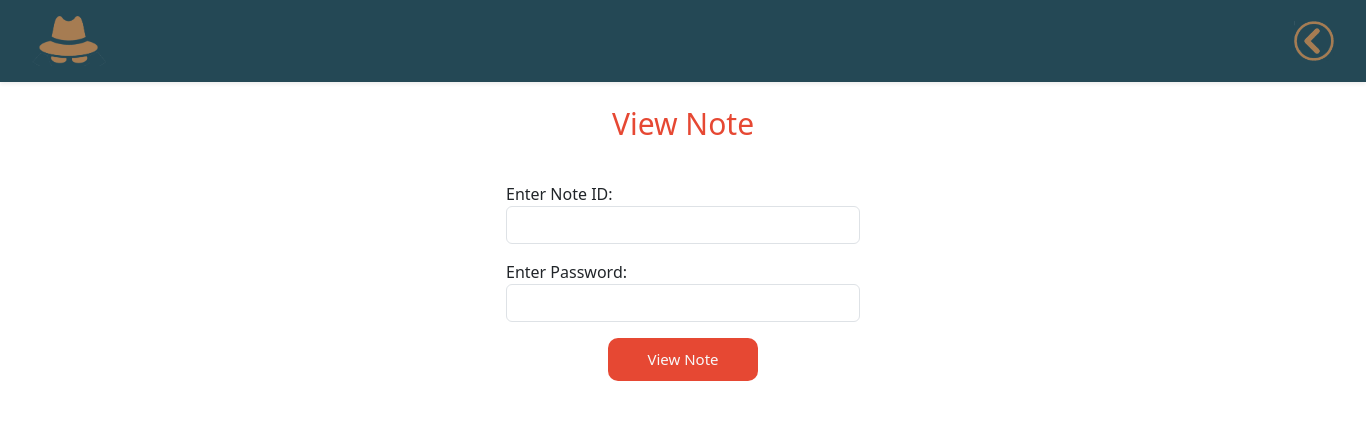
Test case: View Note Functionality › should display error if fields are empty
# Click on the view note button without filling the form
Click the button "View Note": coordinates (683, 360) [608,338,758,381]
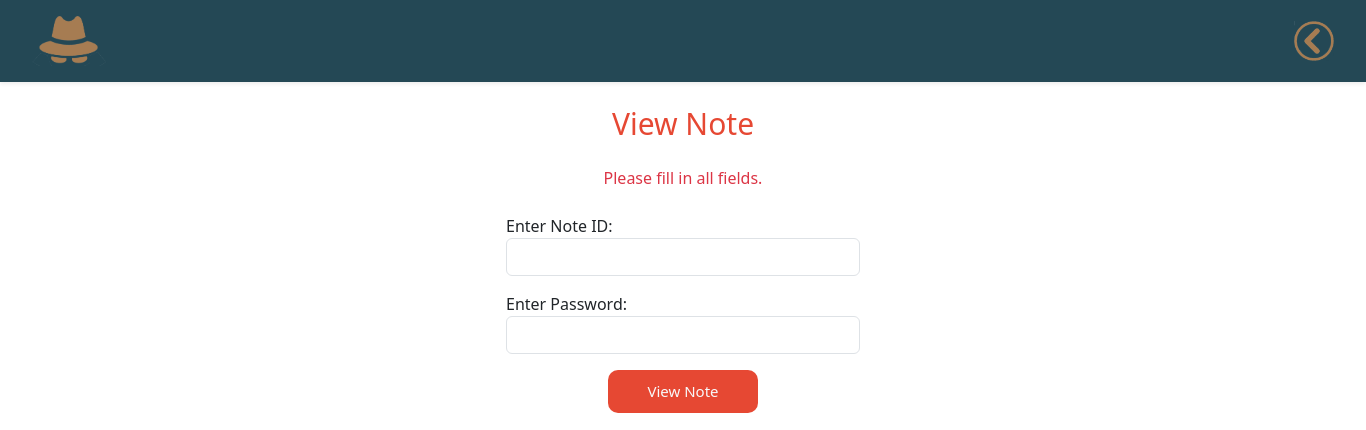
Expected: the text "Please fill in all fields." is shown, [604,167,762,189]
